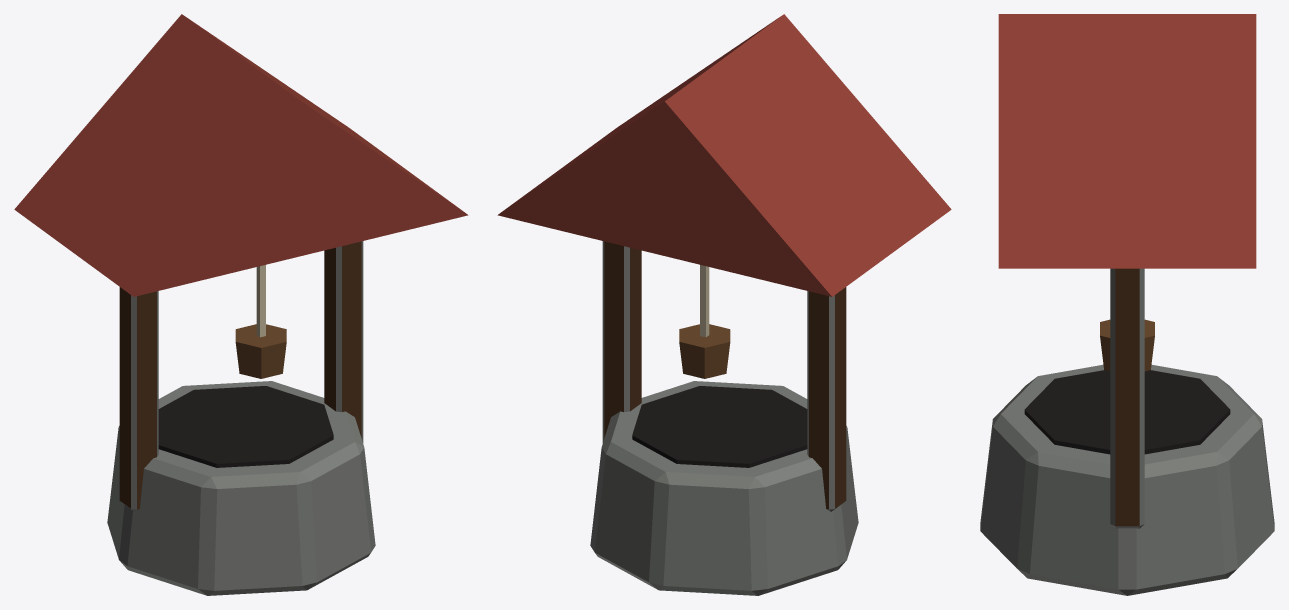
Rendered from well.glb.
3 renders of one model, left to right at view 1: azimuth 30°, elevation 25°; view 2: azimuth 150°, elevation 25°; view 3: azimuth 270°, elevation 25°, orthographic. The views are drawn at different scales.
Visible parts, largest first — view 1: well; view 2: well; view 3: well.
Boxes of the visible parts, x1,y1,x2,y2 form: well: [14, 14, 468, 595]; well: [497, 14, 951, 595]; well: [980, 14, 1274, 595].
Bounding box in the file's own units: 1.7 × 2.35 × 1.2.
